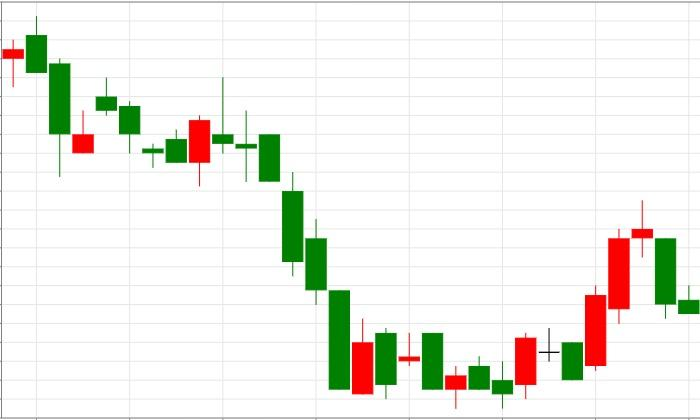bullish_engulfing_rise: (95, 76, 211, 186)
evening_star_fall: (562, 201, 676, 381)
